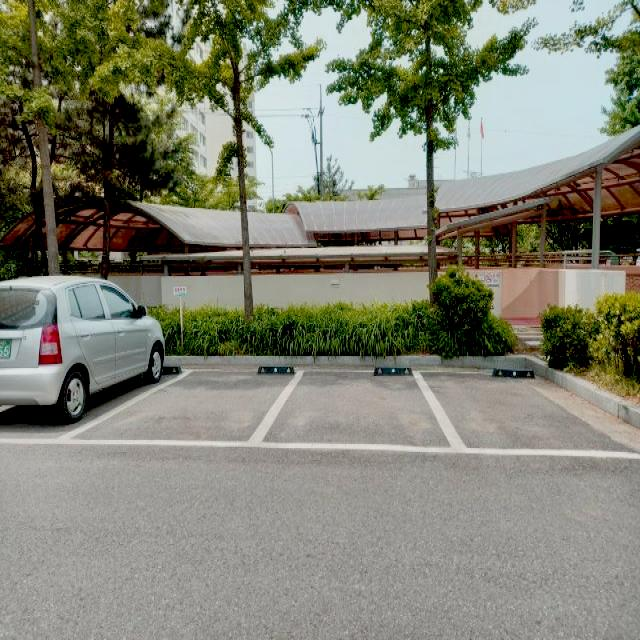empty: (415, 366, 640, 451), (62, 369, 301, 448), (249, 370, 458, 451)
occupied: (0, 275, 168, 423)
